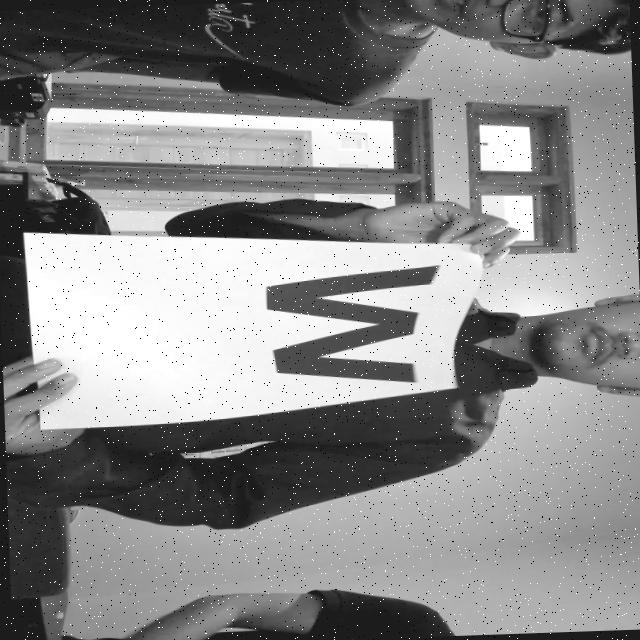w: (250, 262, 460, 394)
